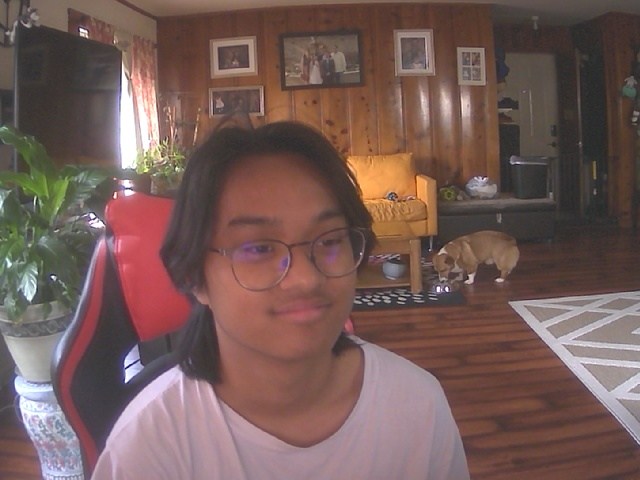happy: (185, 136, 372, 367)
